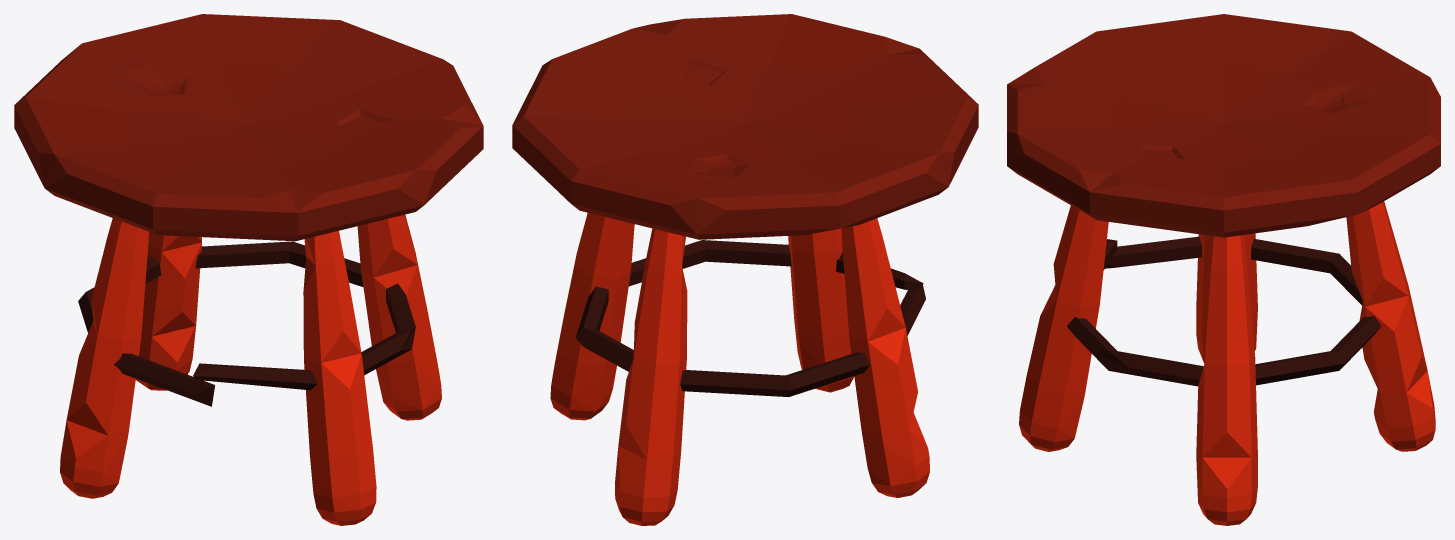
Rendered from Stool.fbx.
The picture shows the model from 3 angles, left to right: view 1: azimuth 30°, elevation 25°; view 2: azimuth 150°, elevation 25°; view 3: azimuth 270°, elevation 25°; orthographic projection. The views are drawn at different scales.
Parts seen in each view (by area): view 1: Stool; view 2: Stool; view 3: Stool.
Part boxes in pixels (left/top/right/bottom): Stool: left=14, top=14, right=483, bottom=525; Stool: left=512, top=14, right=978, bottom=525; Stool: left=1007, top=14, right=1440, bottom=525.
Size of the model in its own units: 80 by 65.59 by 76.08.
